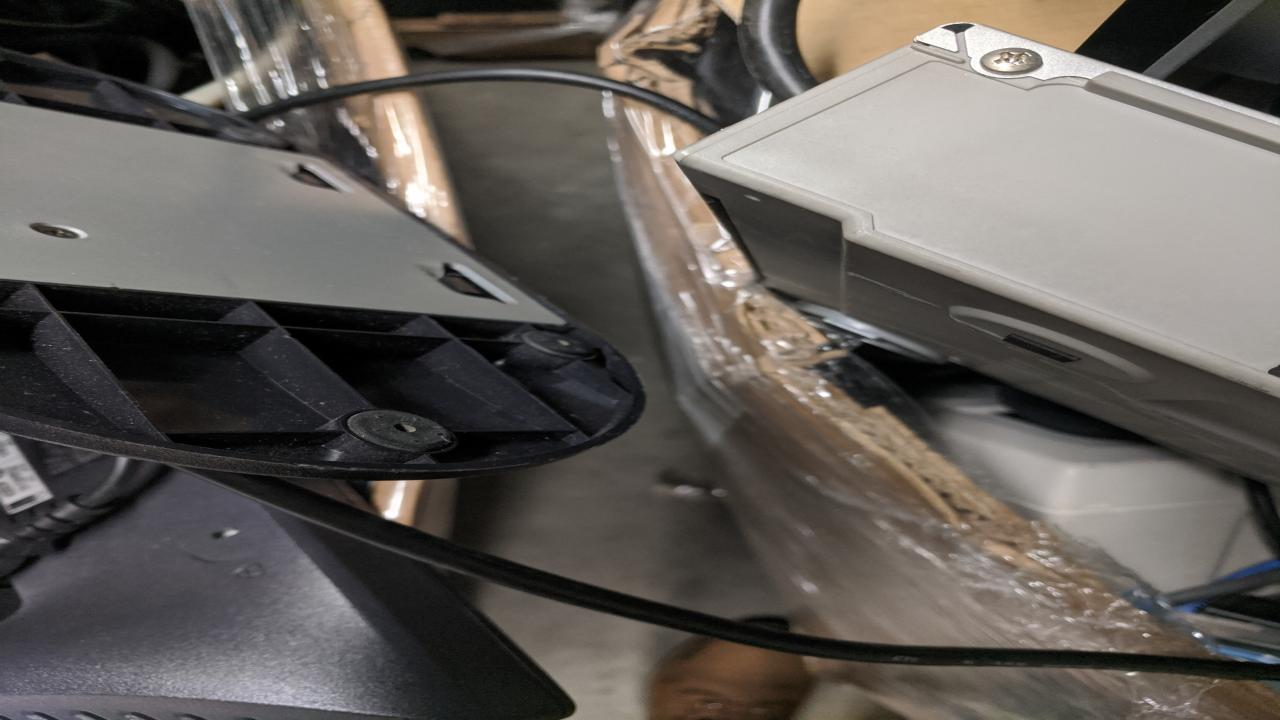CRS: (981, 47, 1044, 74)
